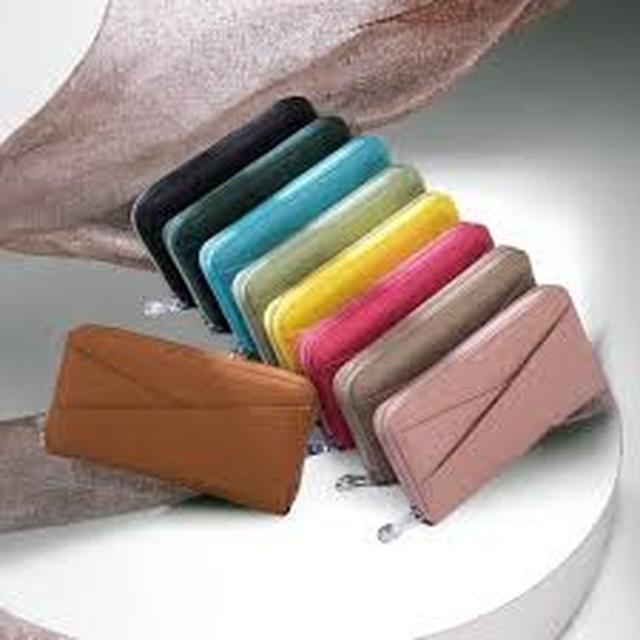wallet: (356, 254, 636, 544), (36, 303, 337, 529)
